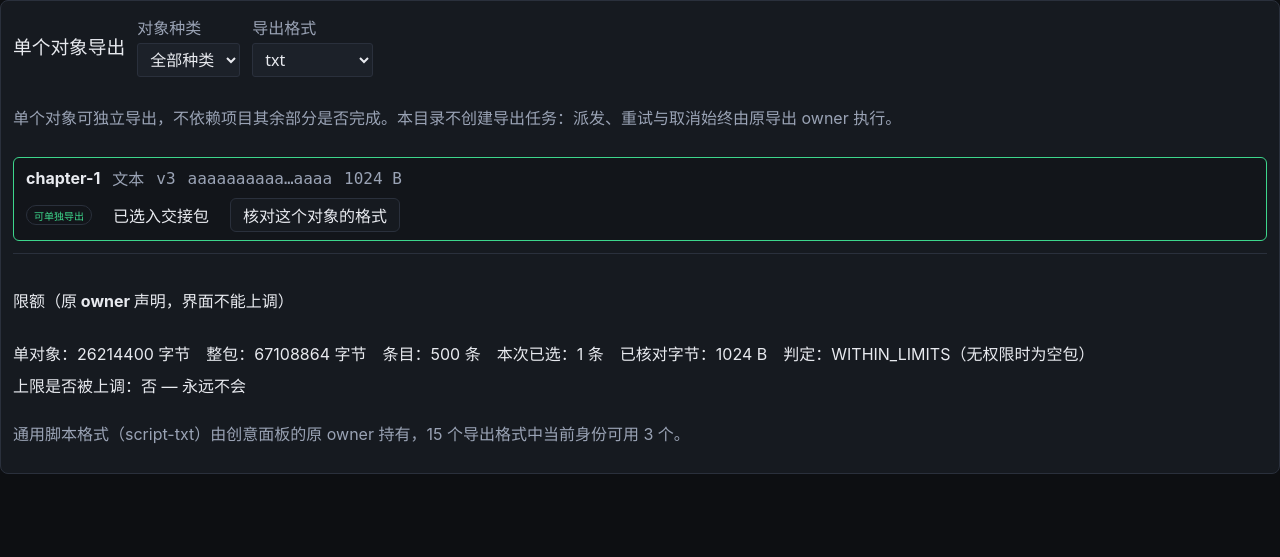
single-item inspection feedback and filter recovery › clears the previous item verdict when the visible kind changes
Click the button "核对这个对象的格式": (315, 215) [230,198,400,232]
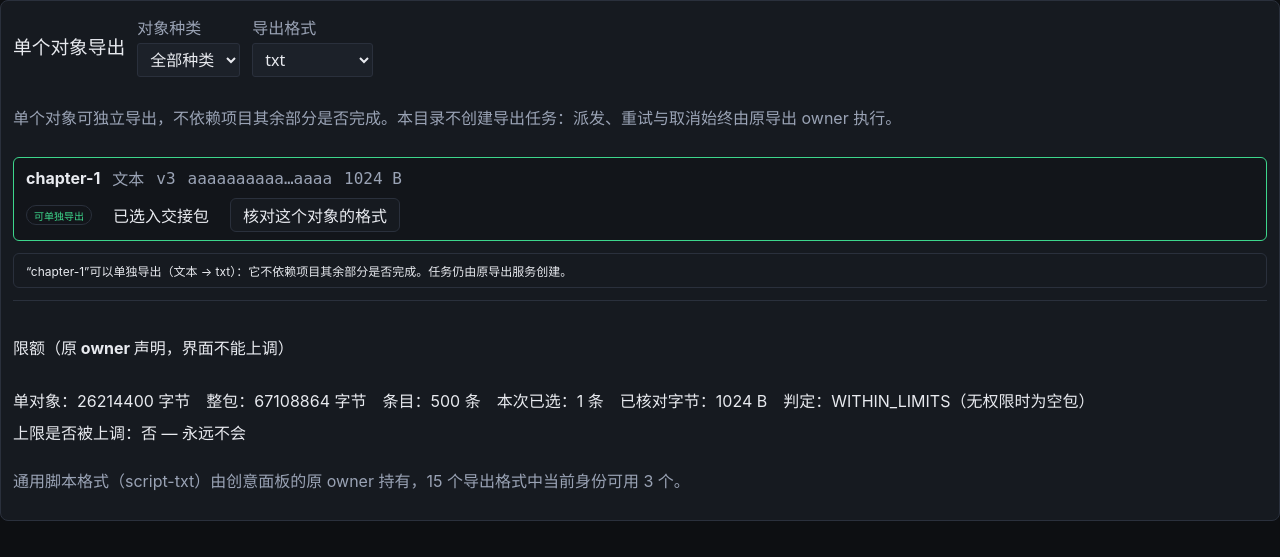
Check: the text "“chapter-1”可以单独导出（文本 → txt）：它不依赖项目其余部分是否完成。任务仍由原导出服务创建。" is shown, box [13,253,1267,288]
Select "图片" in the dropdown named "对象种类过滤": (189, 60) [137,43,240,77]
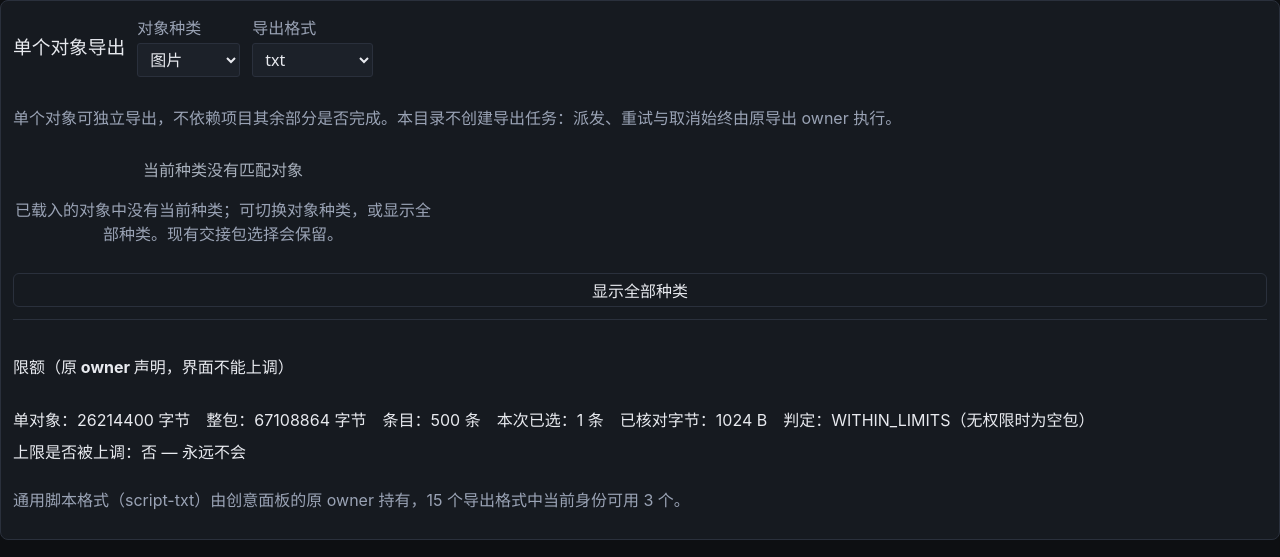
Check: the text "可以单独导出（" is gone
Check: the text "当前种类没有匹配对象" is shown, box [143,160,303,180]
